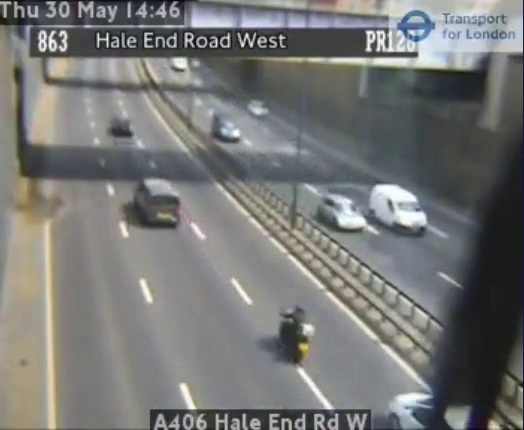motorcycle: (278, 303, 316, 364)
van: (137, 179, 181, 226)
